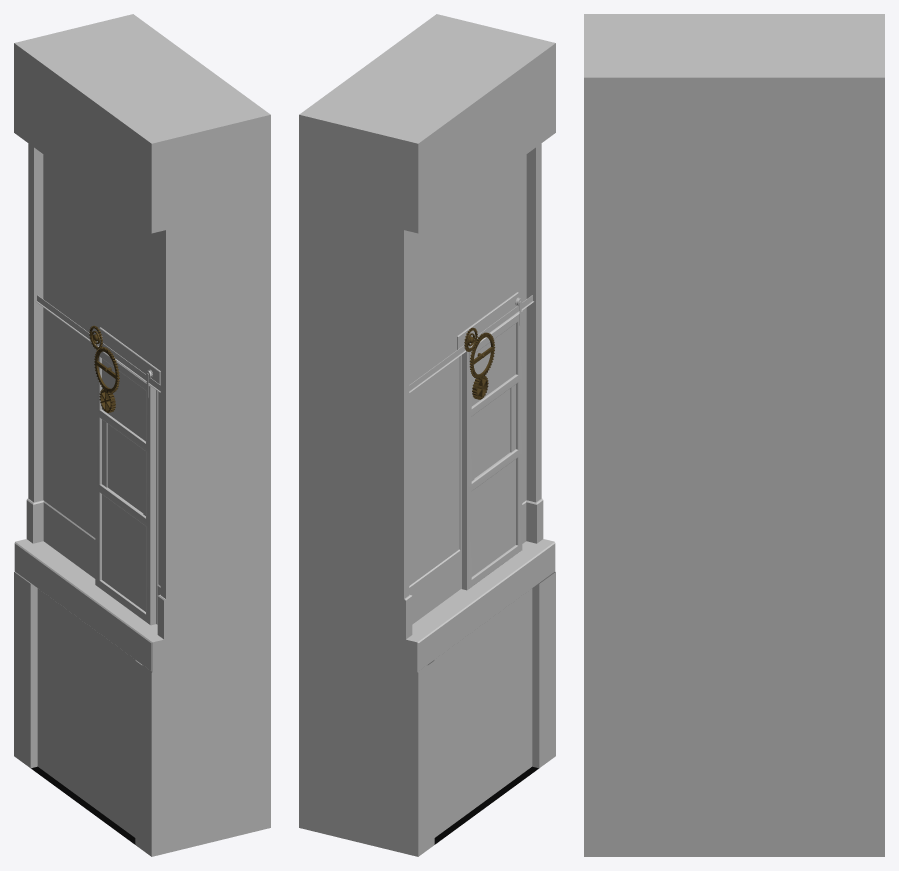
The model's file is DoorEntrance.fbx.
3 renders of one model, left to right at view 1: azimuth 30°, elevation 25°; view 2: azimuth 150°, elevation 25°; view 3: azimuth 270°, elevation 25°, orthographic. The views are drawn at different scales.
Visible parts, largest first — view 1: WallEntry, FloorFoundation, Door, GearArms2; view 2: WallEntry, FloorFoundation, Door, GearArms2; view 3: WallEntry, FloorFoundation.
Boxes of the visible parts, x1,y1,x2,y2 form: WallEntry: [14, 14, 270, 639]; FloorFoundation: [14, 539, 270, 856]; Door: [95, 334, 155, 625]; GearArms2: [94, 346, 119, 393]; WallEntry: [299, 14, 555, 639]; FloorFoundation: [299, 539, 555, 856]; Door: [462, 297, 522, 590]; GearArms2: [469, 332, 495, 378]; WallEntry: [584, 14, 884, 622]; FloorFoundation: [584, 622, 884, 856].
Size of the model in its own units: 2.5 by 14.3 by 5.
